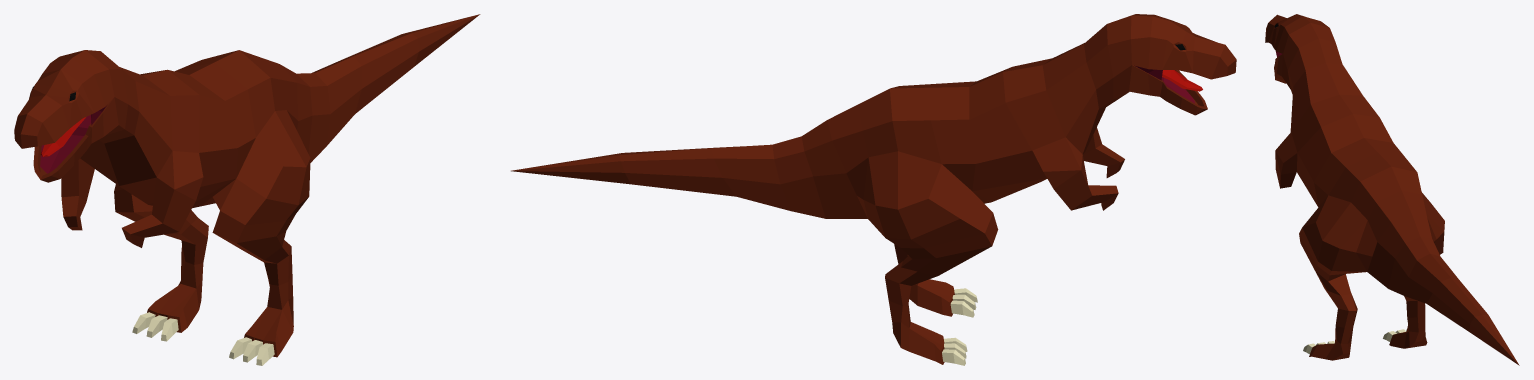
The model's file is dino.glb.
3 renders of one model, left to right at view 1: azimuth 30°, elevation 25°; view 2: azimuth 150°, elevation 25°; view 3: azimuth 270°, elevation 25°, orthographic. The views are drawn at different scales.
Visible parts, largest first — view 1: Dino; view 2: Dino; view 3: Dino.
Boxes of the visible parts, box(x1,y1,x2,y2) form: Dino: box(14, 14, 480, 365); Dino: box(511, 14, 1236, 365); Dino: box(1265, 14, 1519, 365).
Size of the model in its own units: 5.12 by 2.81 by 2.41.
